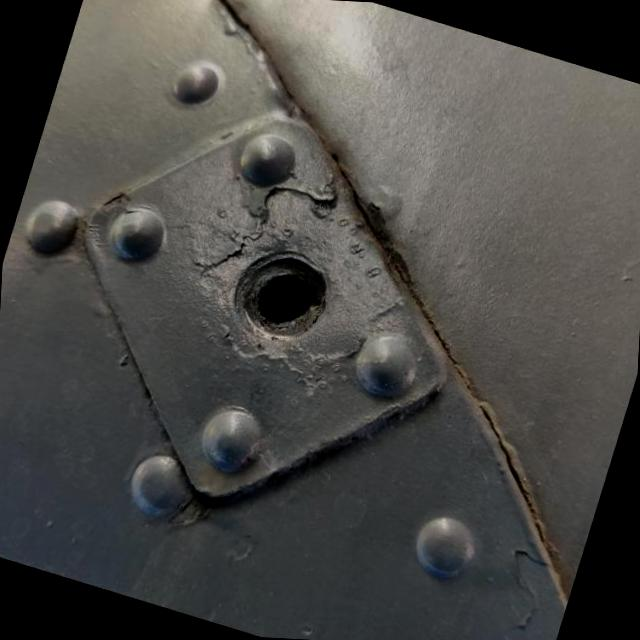Missing Fastener: (236, 250, 326, 338)
